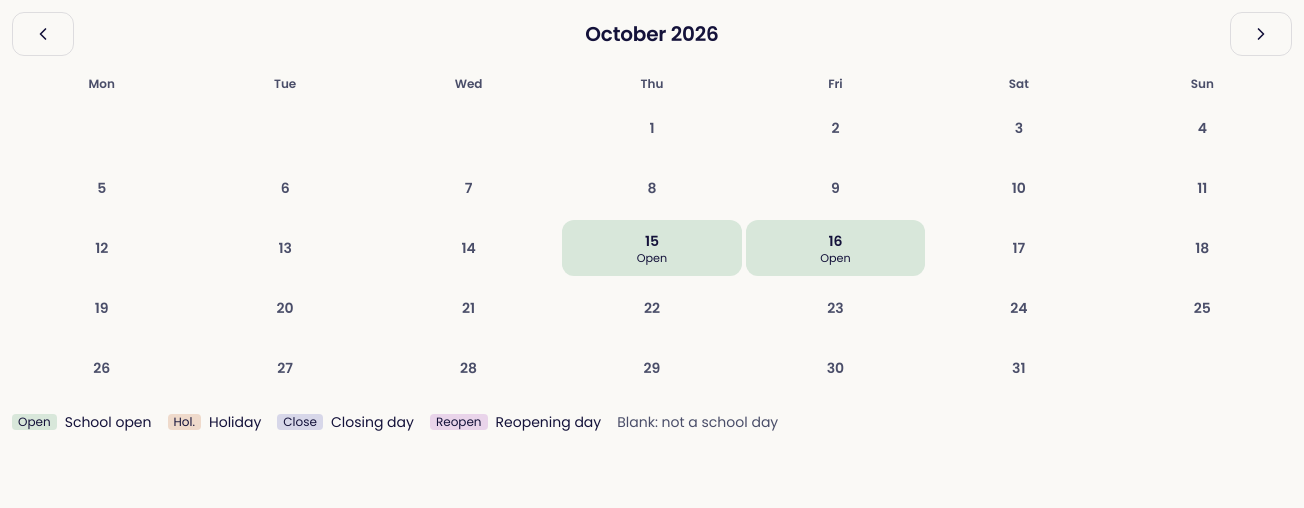
Scenario: CalendarView › moves between months with the buttons
Click the button named "Next month" at (1261, 34), box [1230,12,1292,56]
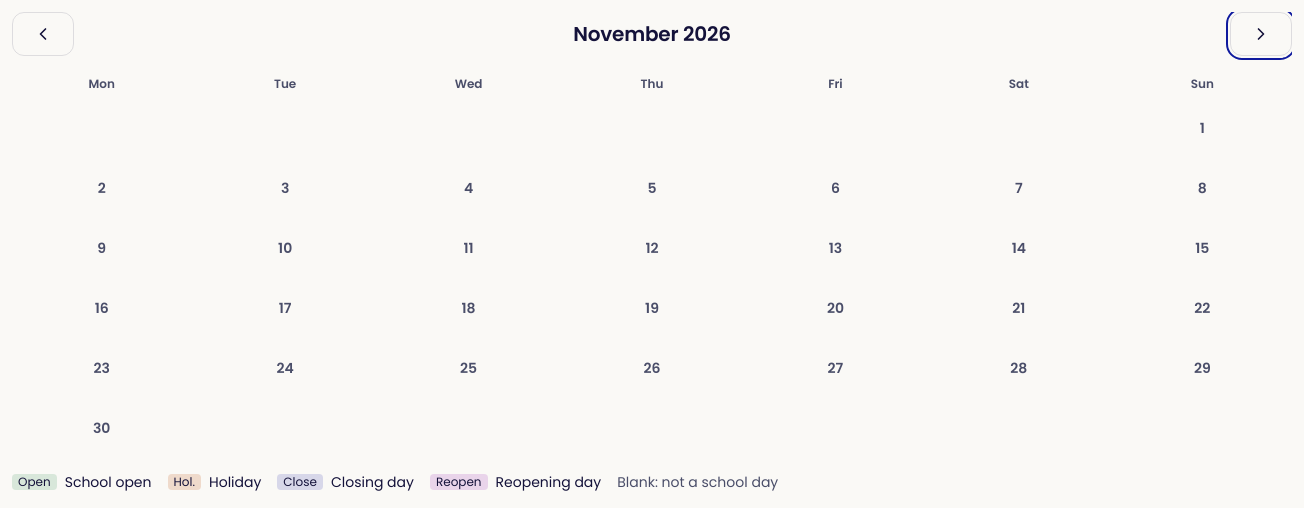
Expected: the heading "November 2026" is shown, [573,20,731,48]
